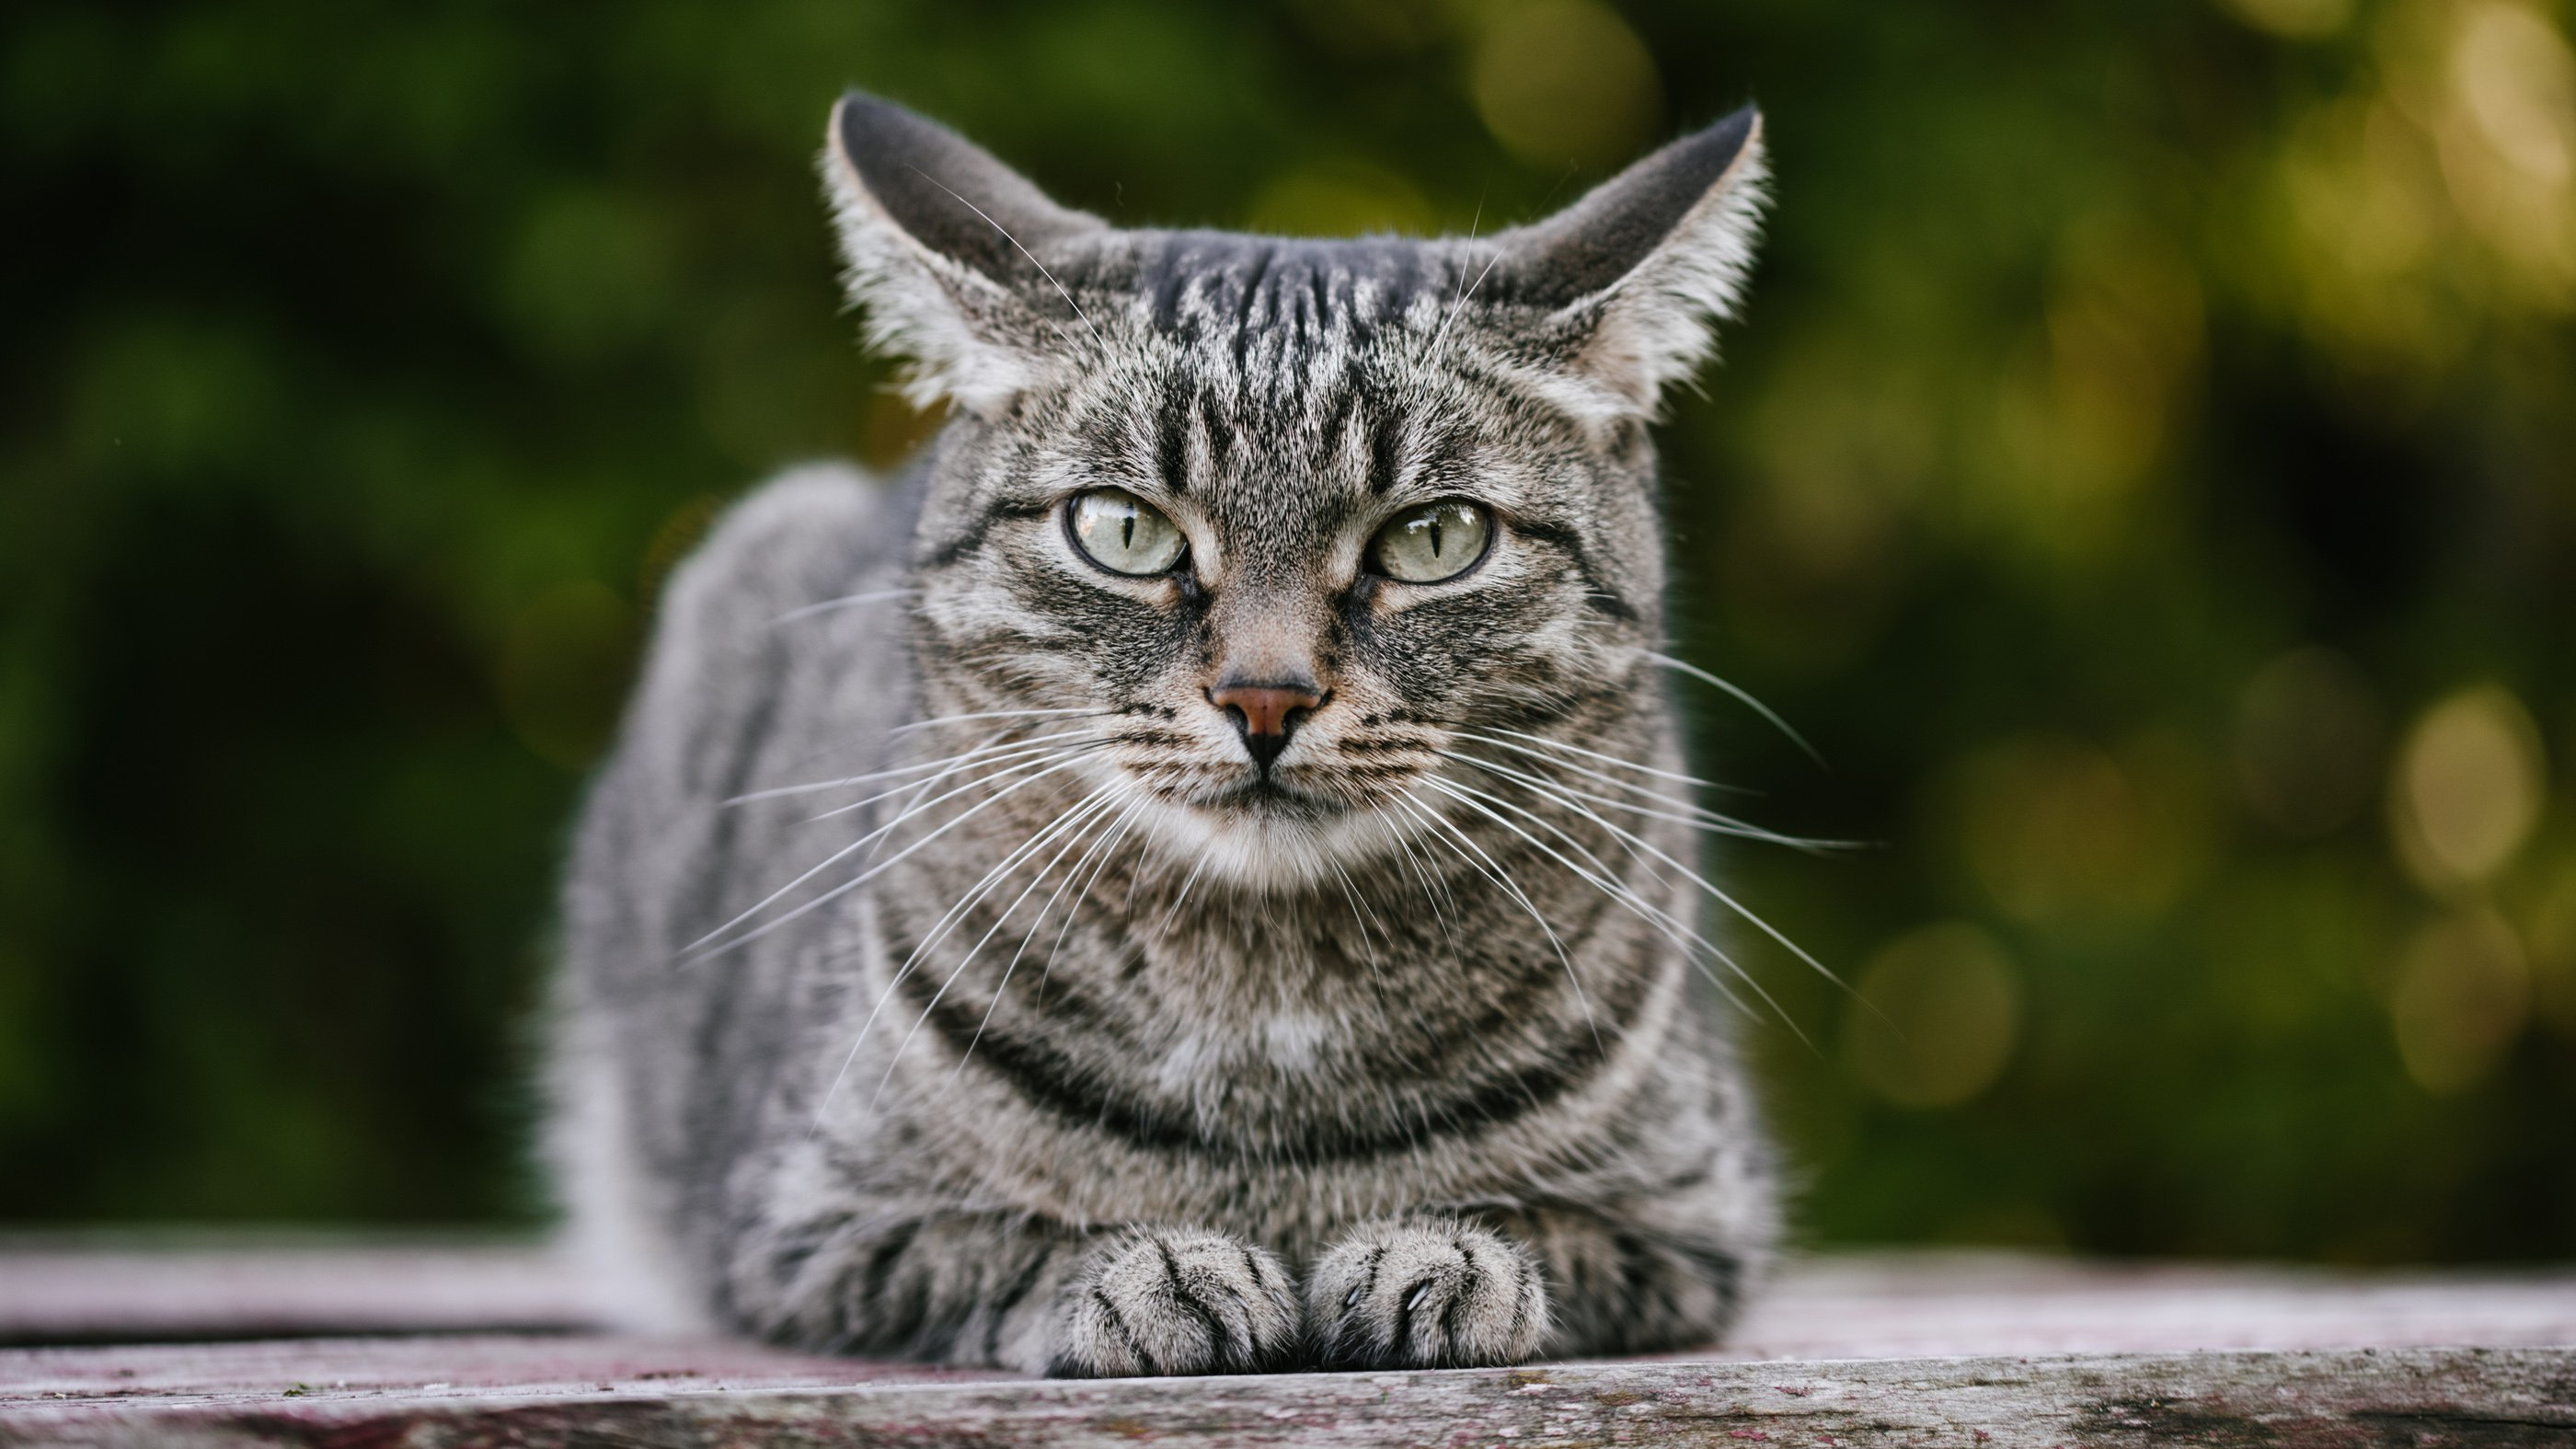cat: (648, 73, 1842, 1369)
